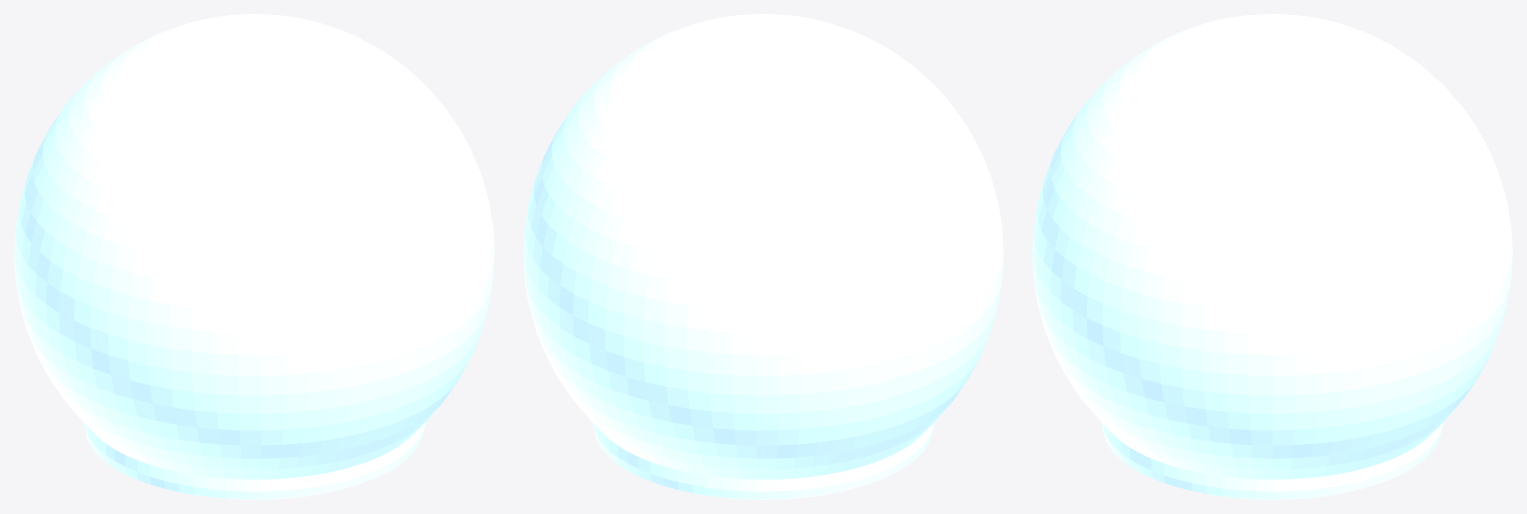
File: aquarium.fbx
3 views of the same model, side by side, from view 1: azimuth 30°, elevation 25°; view 2: azimuth 150°, elevation 25°; view 3: azimuth 270°, elevation 25° (orthographic).
Parts seen in each view (by area): view 1: gaubtas; view 2: gaubtas; view 3: gaubtas.
Boxes of the visible parts, x1=… form: gaubtas: x1=14, y1=14, x2=494, y2=499; gaubtas: x1=523, y1=14, x2=1003, y2=499; gaubtas: x1=1032, y1=14, x2=1512, y2=499.
Bounding box in the file's own units: 2.01 × 1.82 × 2.01.
